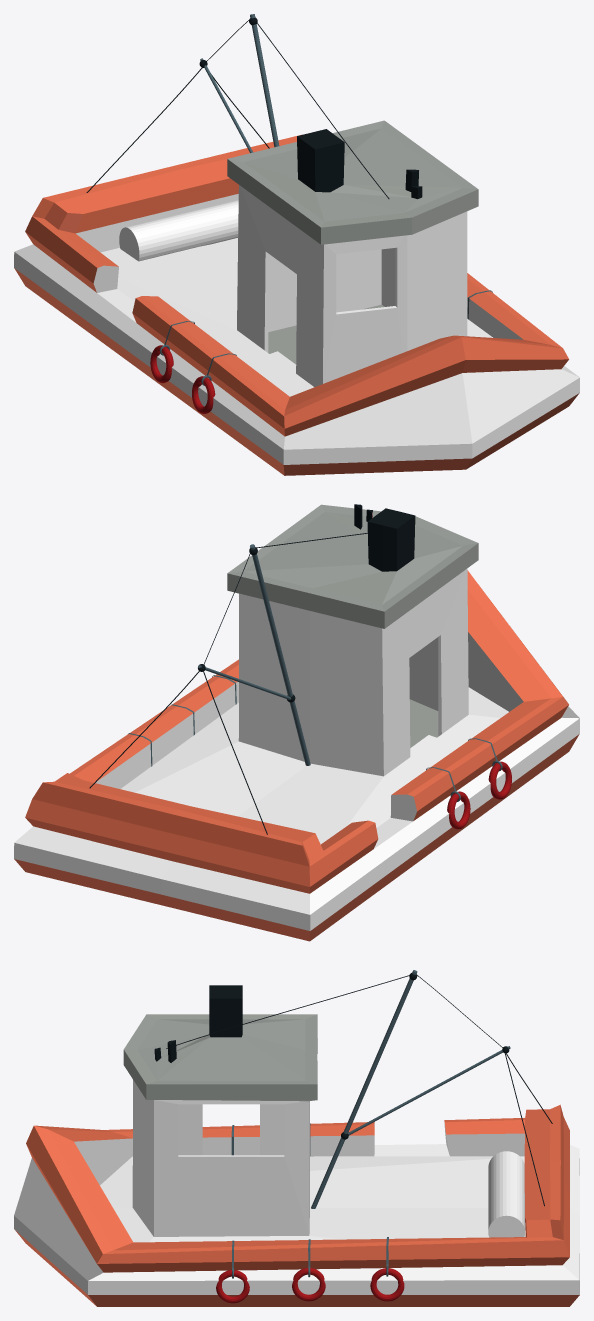
File: BARCO com lodddd.fbx
3 views of the same model, one above another, from view 1: azimuth 30°, elevation 25°; view 2: azimuth 150°, elevation 25°; view 3: azimuth 270°, elevation 25° (orthographic). The views are drawn at different scales.
Visible parts, largest first — view 1: BARCO_LOD0; view 2: BARCO_LOD0; view 3: BARCO_LOD0.
Boxes of the visible parts, box(x1,y1,x2,y2) form: BARCO_LOD0: box(14, 14, 579, 475); BARCO_LOD0: box(14, 504, 579, 941); BARCO_LOD0: box(14, 970, 579, 1306).
Size of what is drawn, in the model's own units: 572 by 535 by 1005.
